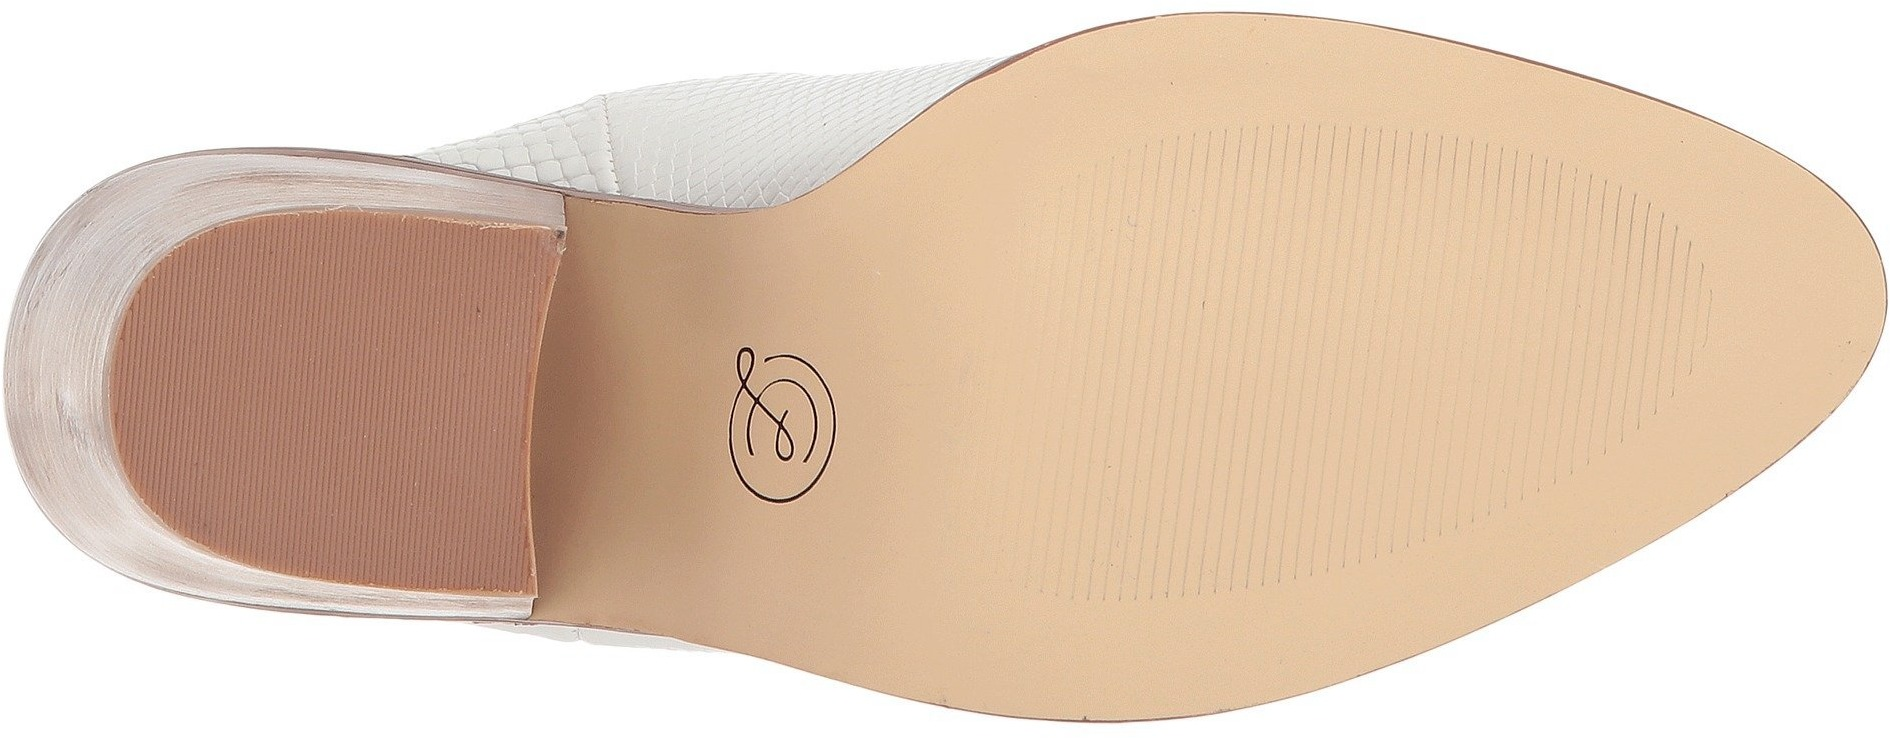other: (112, 200, 568, 588)
text: (716, 320, 871, 514)
